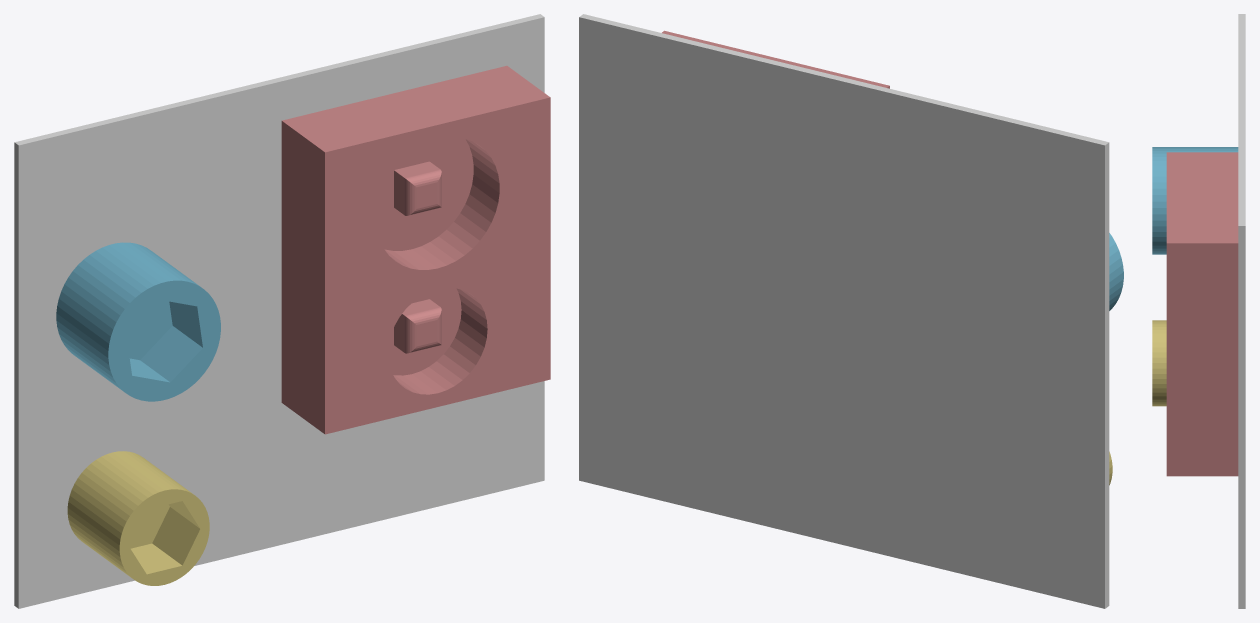
Rendered from pickup_layout.glb.
3 views of the same model, side by side, from view 1: azimuth 30°, elevation 25°; view 2: azimuth 150°, elevation 25°; view 3: azimuth 270°, elevation 25° (orthographic). The views are drawn at different scales.
Parts seen in each view (by area): view 1: world, 0.obj, 2.obj, 1.obj; view 2: world, 2.obj, 0.obj; view 3: 0.obj, world, 2.obj, 1.obj.
Part boxes in pixels (x1,y1,x2,y2): world: [14, 14, 544, 608]; 0.obj: [281, 65, 550, 434]; 2.obj: [56, 242, 220, 401]; 1.obj: [67, 451, 209, 585]; world: [579, 14, 1109, 608]; 2.obj: [1109, 233, 1123, 310]; 0.obj: [662, 30, 889, 88]; 0.obj: [1166, 152, 1238, 476]; world: [1238, 14, 1245, 608]; 2.obj: [1152, 147, 1238, 254]; 1.obj: [1152, 320, 1166, 406].
Size of the model in its own units: 14 by 11.79 by 2.6.
